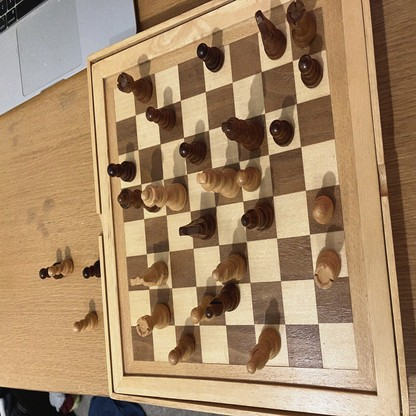bishop_black: (206, 284, 240, 317), (242, 202, 273, 231)
bishop_white: (246, 329, 281, 374), (212, 252, 246, 282)
king_black: (222, 118, 265, 150)
king_white: (197, 167, 240, 197)
knight_black: (256, 11, 286, 59), (179, 213, 215, 240)
knight_white: (130, 261, 169, 286)
pawn_black: (197, 43, 225, 73), (299, 55, 324, 87), (145, 107, 176, 128), (270, 119, 293, 147), (180, 142, 206, 165), (107, 163, 136, 182), (83, 259, 102, 277)
pawn_white: (168, 334, 195, 366), (236, 166, 262, 192), (191, 295, 214, 322), (311, 195, 333, 222), (73, 311, 98, 333), (48, 259, 73, 276)
queen_white: (141, 184, 187, 210)
rock_black: (287, 1, 316, 47), (117, 72, 152, 104)
rock_white: (136, 304, 170, 337), (315, 250, 342, 289)
